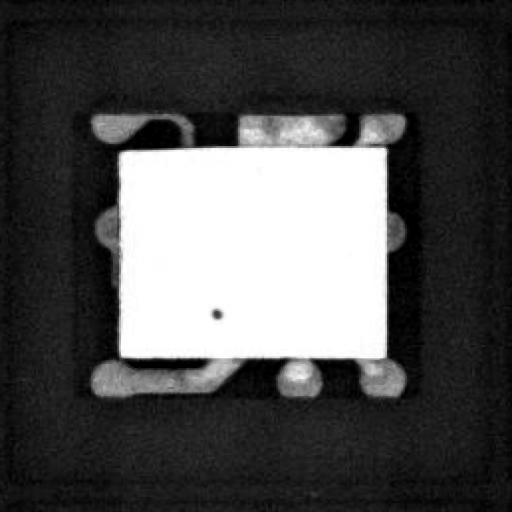DIE_INK: (196, 318, 214, 338)
